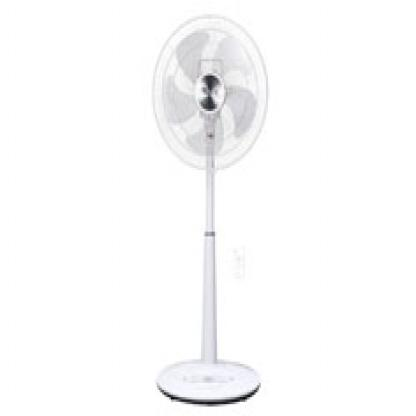fan: (148, 11, 276, 410)
